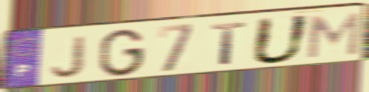7: (157, 22, 194, 75)
G: (96, 27, 147, 78)
J: (49, 34, 89, 80)
M: (304, 11, 363, 60)
T: (209, 21, 248, 68)
U: (249, 13, 313, 67)
